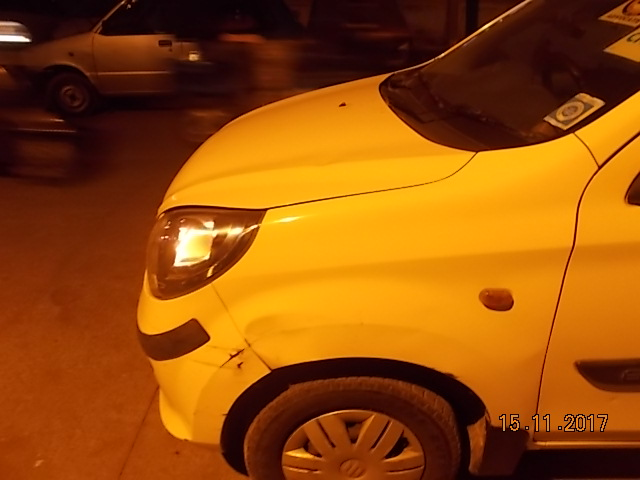Scratch_or_spot: (219, 345, 244, 372)
